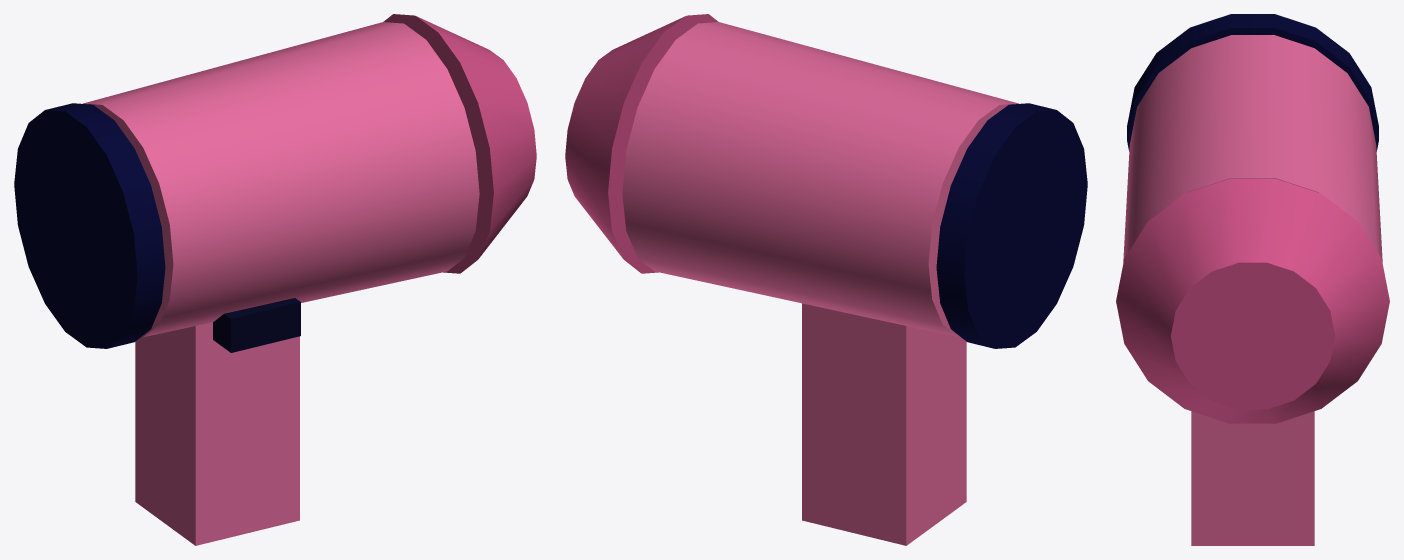
The model's file is item_hairdryer.fbx.
3 renders of one model, left to right at view 1: azimuth 30°, elevation 25°; view 2: azimuth 150°, elevation 25°; view 3: azimuth 270°, elevation 25°, orthographic. The views are drawn at different scales.
Parts seen in each view (by area): view 1: M__item_hairdryer; view 2: M__item_hairdryer; view 3: M__item_hairdryer.
Part boxes in pixels (x1,y1,x2,y2): M__item_hairdryer: [14, 14, 536, 545]; M__item_hairdryer: [565, 14, 1087, 545]; M__item_hairdryer: [1116, 14, 1389, 545].
Bounding box in the file's own units: 0.181 × 0.1792 × 0.1.
